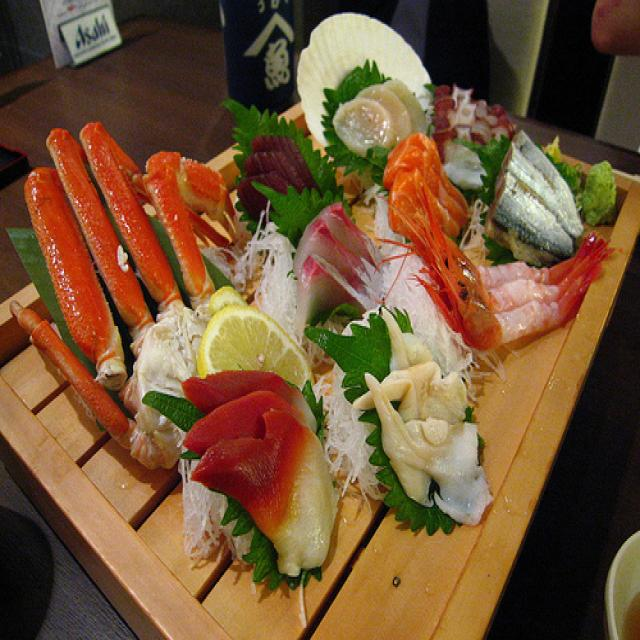刺身生食: (0, 44, 640, 606)
